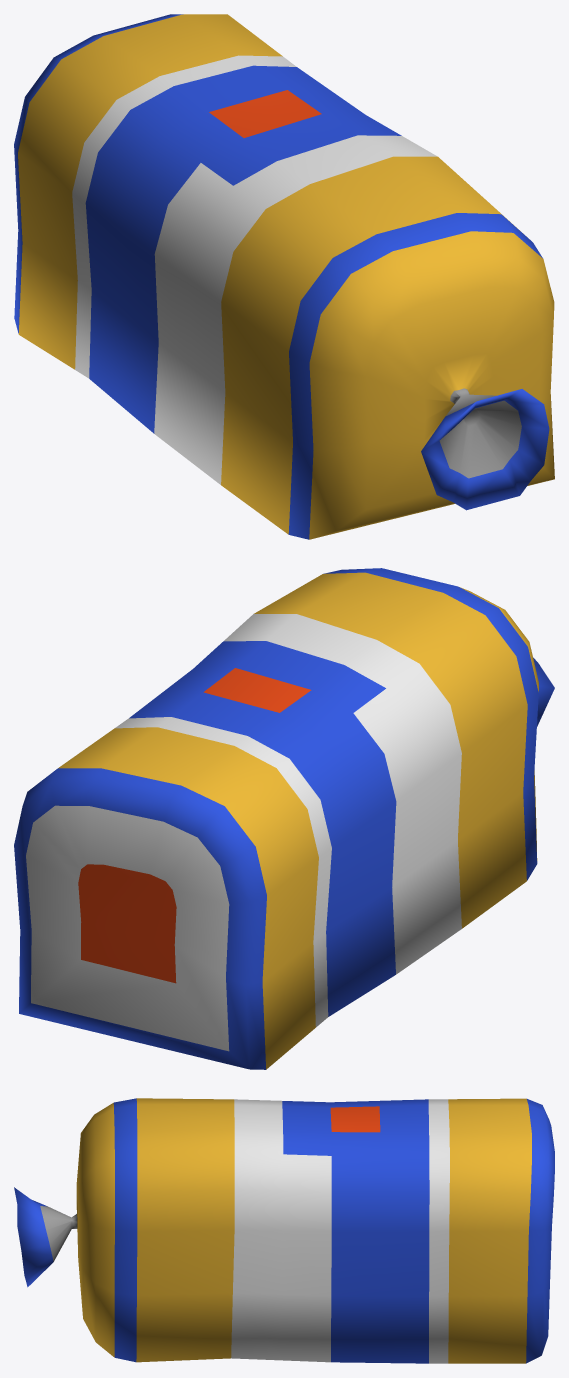
Rendered from bread_loaf.glb.
The picture shows the model from 3 angles, top to bottom: view 1: azimuth 30°, elevation 25°; view 2: azimuth 150°, elevation 25°; view 3: azimuth 270°, elevation 25°; orthographic projection. The views are drawn at different scales.
Visible parts, largest first — view 1: bread_loaf; view 2: bread_loaf; view 3: bread_loaf.
Boxes of the visible parts, x1,y1,x2,y2 form: bread_loaf: (14,14,554,539); bread_loaf: (14,568,554,1069); bread_loaf: (14,1098,554,1363).
Bounding box in the file's own units: 0.1196 × 0.1258 × 0.3.
